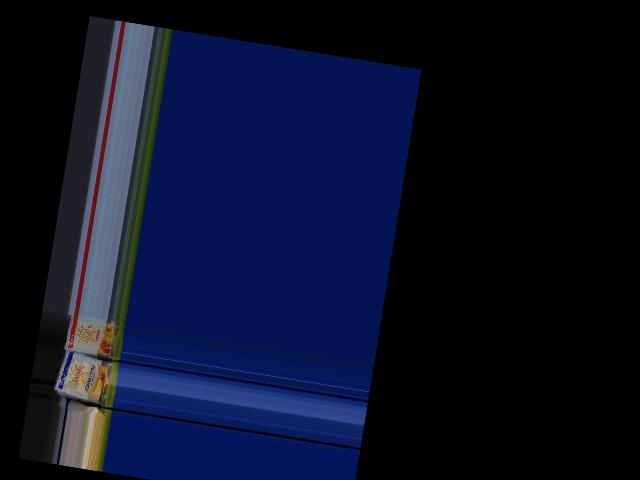cheese: (61, 312, 126, 359)
